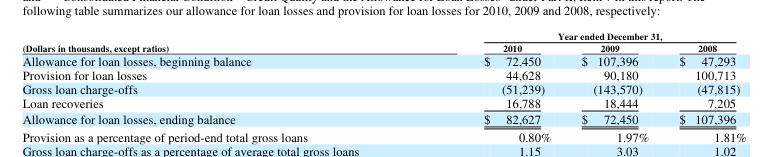table: (21, 29, 739, 126)
table column: (21, 29, 367, 126), (367, 29, 562, 126), (562, 29, 660, 126), (660, 29, 739, 126)
table column header: (21, 29, 739, 52)
table row: (21, 109, 739, 126), (21, 52, 739, 67), (21, 67, 739, 81), (21, 81, 739, 95), (21, 95, 739, 109), (21, 29, 739, 41), (21, 41, 739, 52)
table spanning cell: (21, 29, 367, 52), (367, 29, 739, 41)
